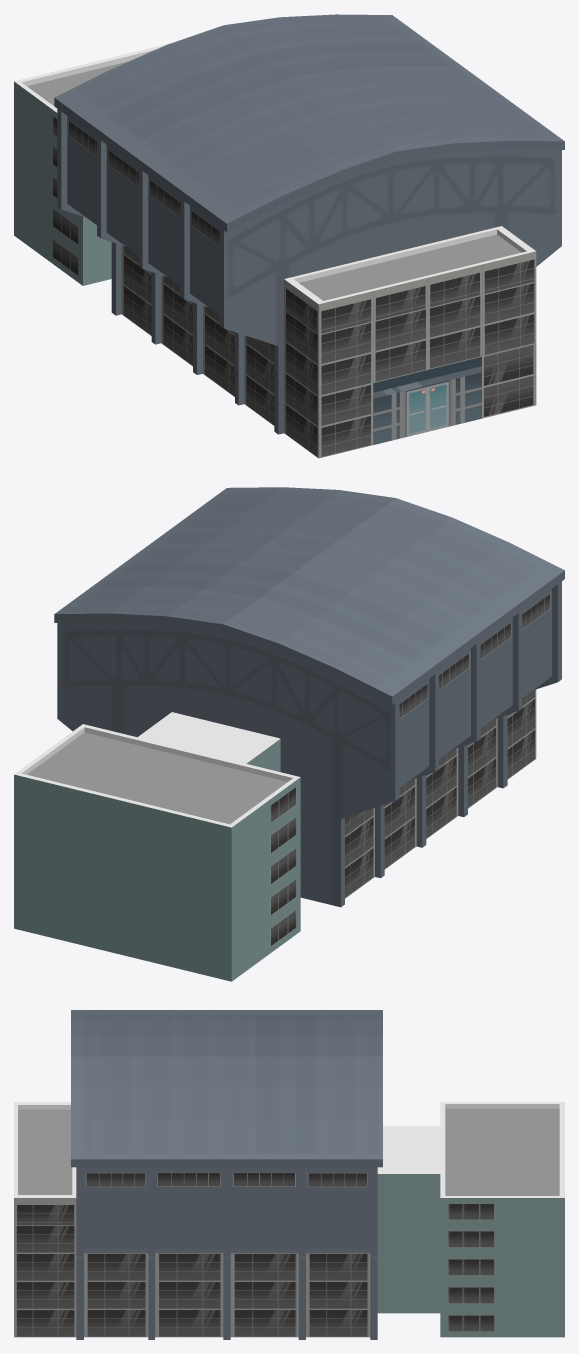
Rendered from building_gym.fbx.
3 views of the same model, one above another, from view 1: azimuth 30°, elevation 25°; view 2: azimuth 150°, elevation 25°; view 3: azimuth 270°, elevation 25° (orthographic). The views are drawn at different scales.
Parts seen in each view (by area): view 1: building_gym; view 2: building_gym; view 3: building_gym.
Part boxes in pixels (x1,y1,x2,y2): building_gym: [14, 14, 564, 458]; building_gym: [14, 487, 564, 981]; building_gym: [14, 1010, 564, 1339].
Bounding box in the file's own units: 2.58 × 1.87 × 4.02.
Materials: 1 (1 with a texture image).
